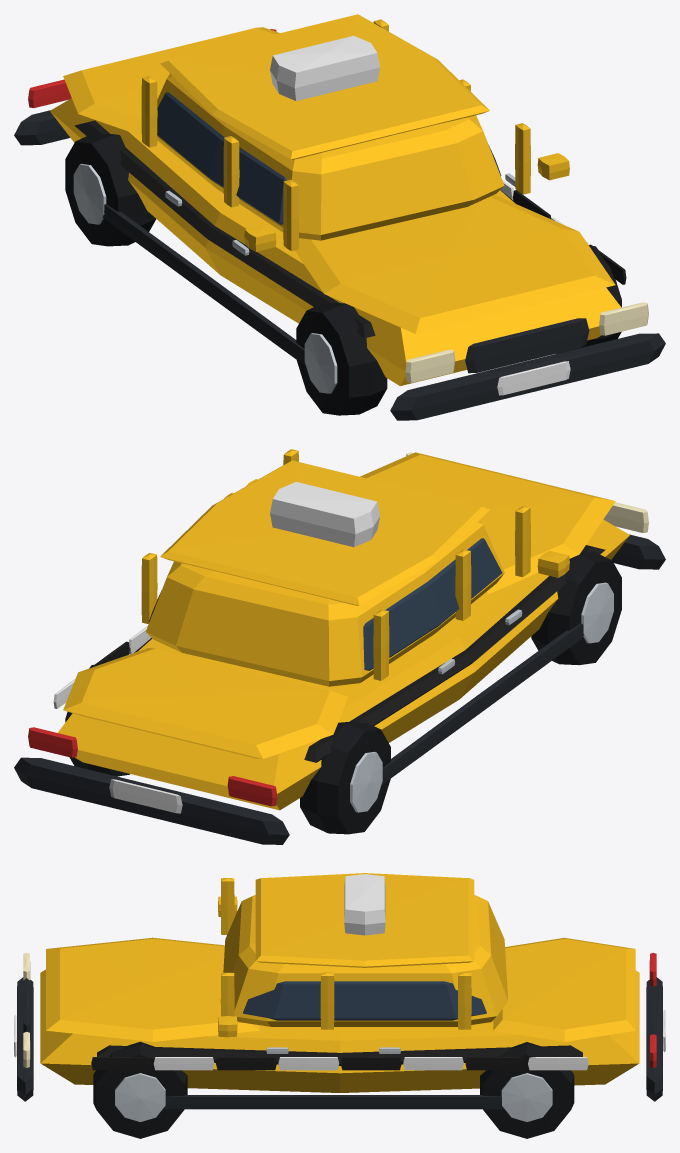
File: s-taxi.glb
The picture shows the model from 3 angles, top to bottom: view 1: azimuth 30°, elevation 25°; view 2: azimuth 150°, elevation 25°; view 3: azimuth 270°, elevation 25°; orthographic projection. The views are drawn at different scales.
Visible parts, largest first — view 1: p; view 2: p; view 3: p.
Boxes of the visible parts, x1,y1,x2,y2 form: p: [14, 14, 665, 420]; p: [14, 449, 665, 844]; p: [14, 873, 665, 1138].
Size of the model in its own units: 2.16 by 1.51 by 4.6.
